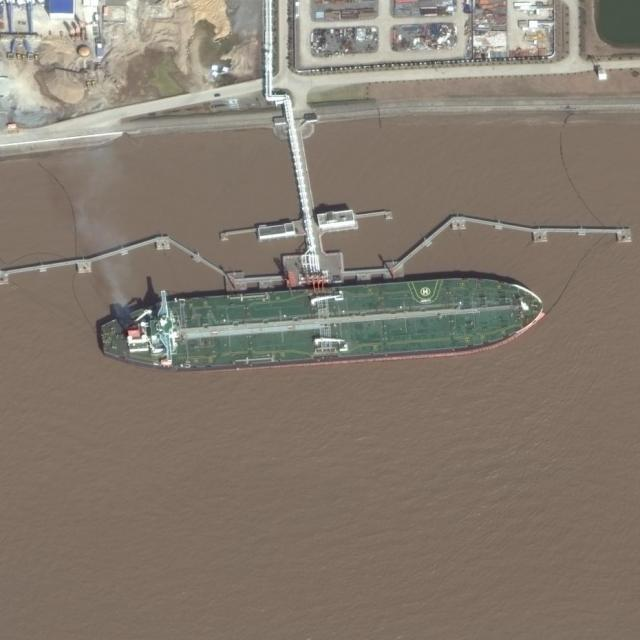Oil Tanker: (96, 273, 545, 378)
